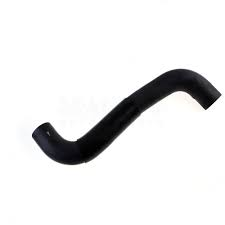radiator_hose: (34, 68, 222, 164)
